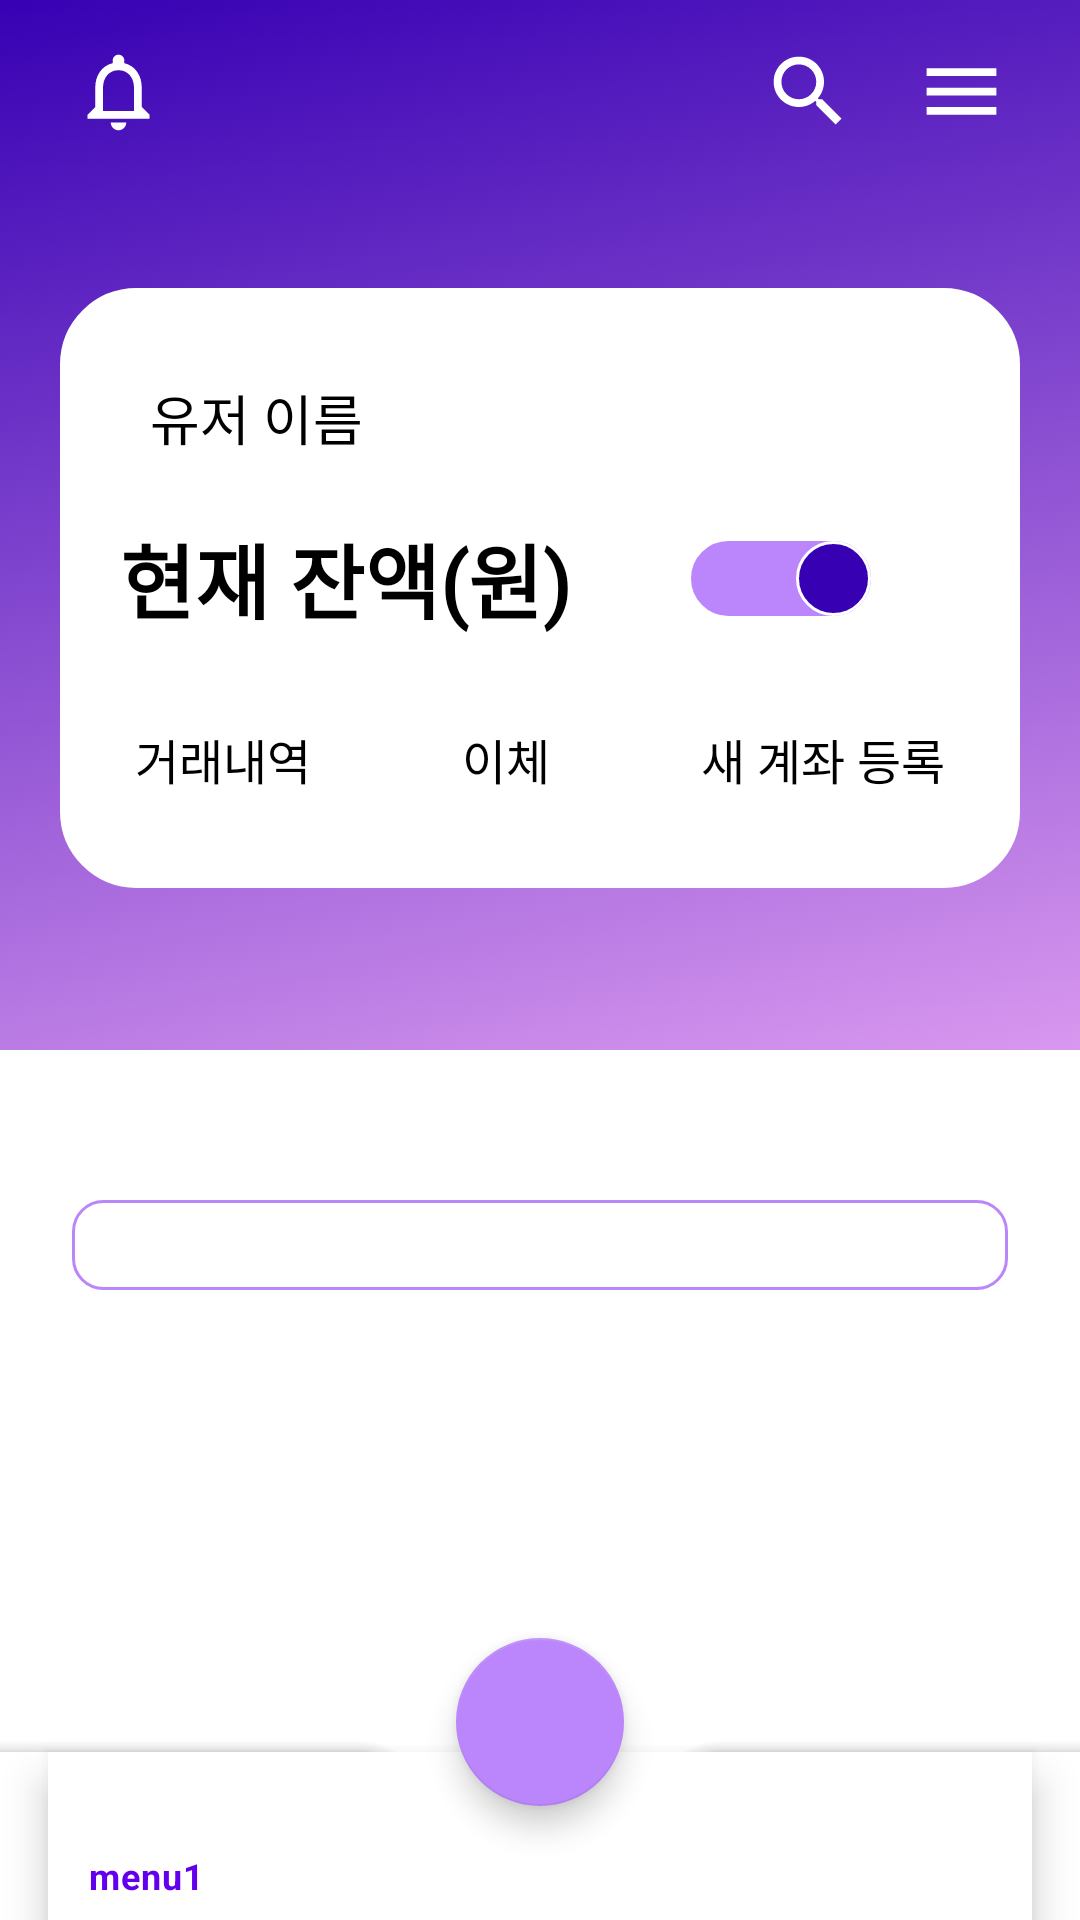

Where icons sit on this 1080*1920 app screen, as (x1, y1, x2, y2):
menu: (926, 68, 997, 115)
notification: (87, 54, 150, 131)
search: (773, 56, 842, 125)
